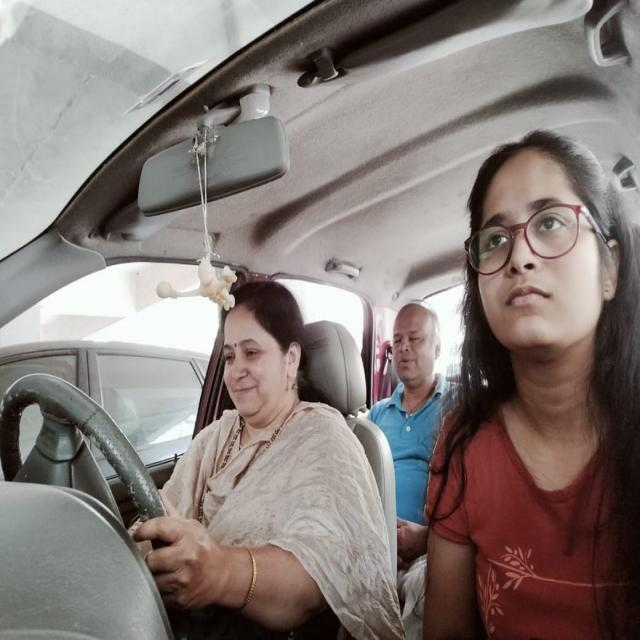person: (465, 121, 634, 392), (212, 279, 312, 428), (388, 286, 444, 402)
